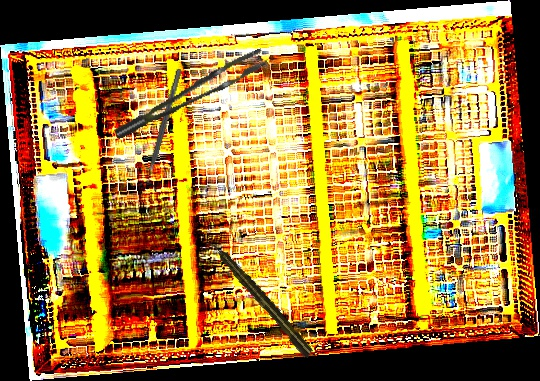Fixation Ring: (138, 66, 189, 193)
Handpiece: (204, 235, 316, 360)
Tissue Forceps: (105, 47, 275, 140)
